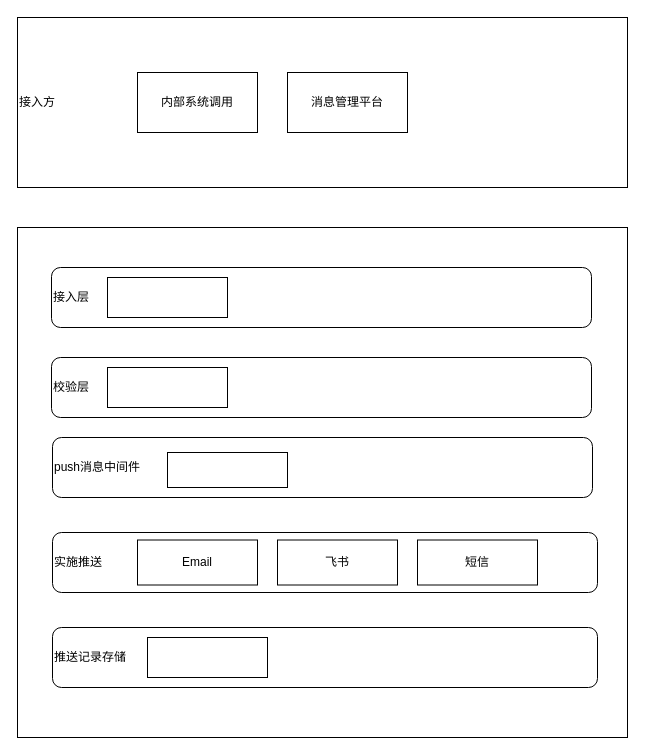
Image size: 645x755. Some labels were removed from this diagram. Each missing label, with the centre of its shape:
mq: the point at 227,470
mysql: the point at 207,657
权限验证: the point at 167,297
消息参数是否合规: the point at 167,387
